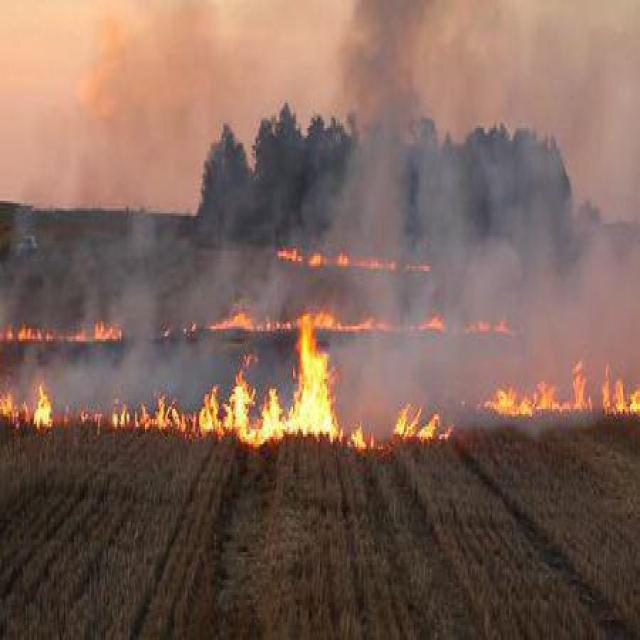fire: (1, 308, 507, 339), (215, 322, 342, 442), (1, 388, 222, 426), (266, 229, 432, 277), (490, 374, 637, 414), (355, 413, 451, 444)
